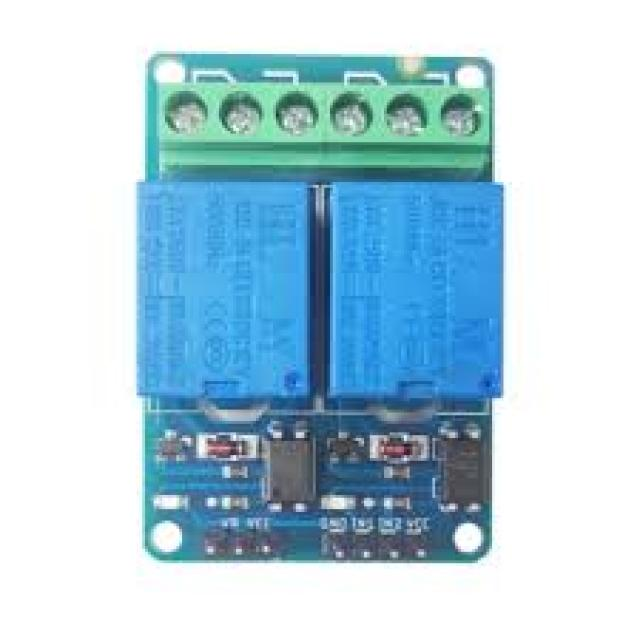Relay: (145, 259, 492, 563), (145, 51, 498, 216), (328, 185, 503, 402), (139, 184, 309, 400)
